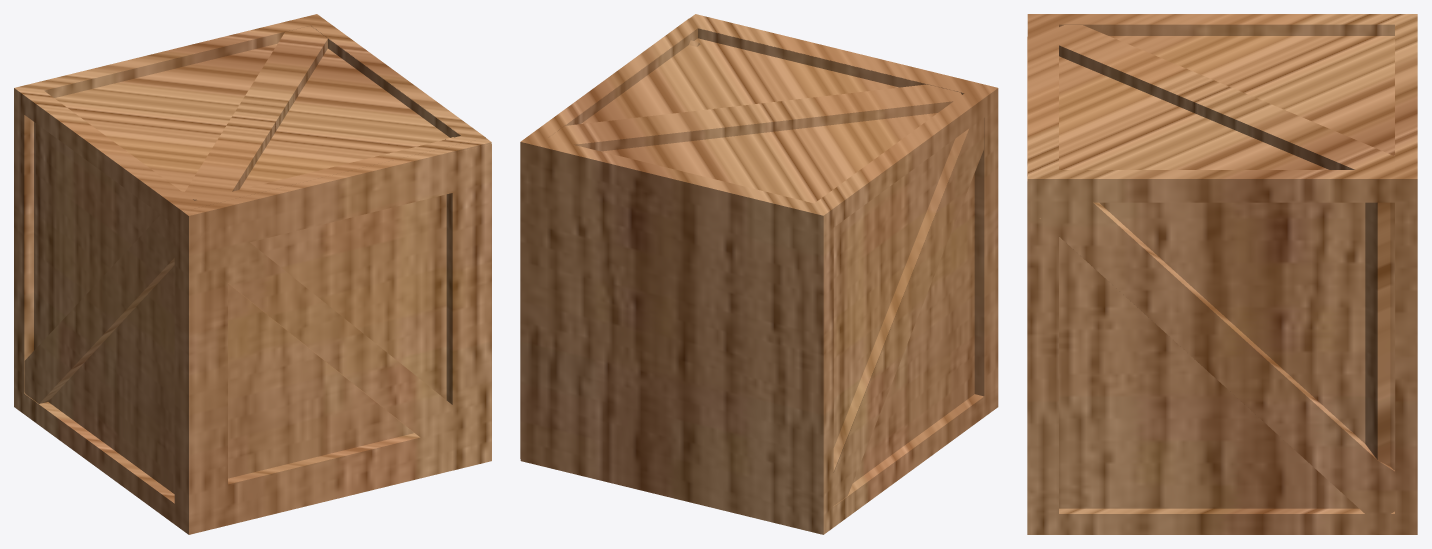
The model's file is caisse.obj.
3 renders of one model, left to right at view 1: azimuth 30°, elevation 25°; view 2: azimuth 150°, elevation 25°; view 3: azimuth 270°, elevation 25°, orthographic. The views are drawn at different scales.
Parts seen in each view (by area): view 1: Object.1; view 2: Object.1; view 3: Object.1.
Boxes of the visible parts, <box> form: Object.1: <box>14,14,491,534</box>; Object.1: <box>520,14,998,534</box>; Object.1: <box>1027,14,1417,534</box>.
Size of the model in its own units: 40 by 40.24 by 40.
2 materials, 1 textured.
